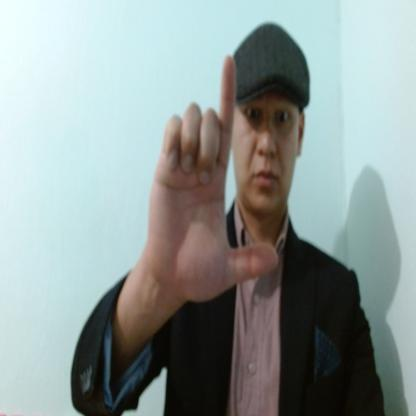L: (148, 53, 278, 302)
